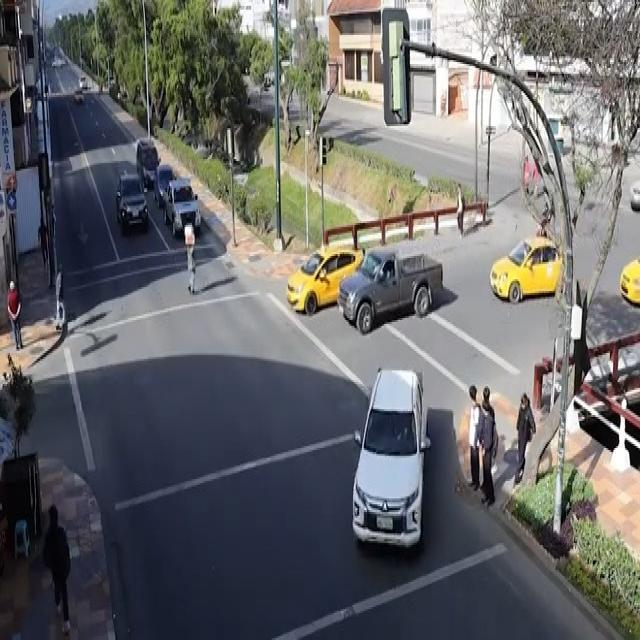CMT: (355, 366, 432, 559), (337, 243, 441, 328), (165, 176, 199, 236)
